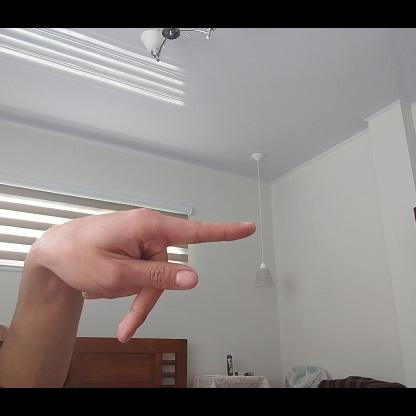P: (32, 205, 256, 347)
